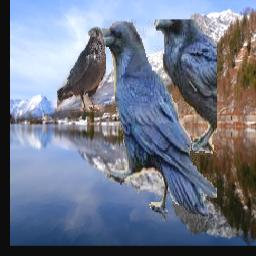Crow: (89, 19, 218, 221), (58, 27, 107, 112)
